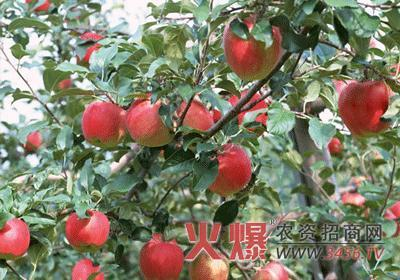apple: (222, 4, 282, 83), (338, 80, 392, 136), (125, 97, 170, 150), (208, 143, 251, 195), (137, 236, 184, 280), (81, 100, 124, 147), (64, 208, 109, 248), (175, 97, 220, 133), (1, 216, 31, 259), (251, 260, 288, 280)
